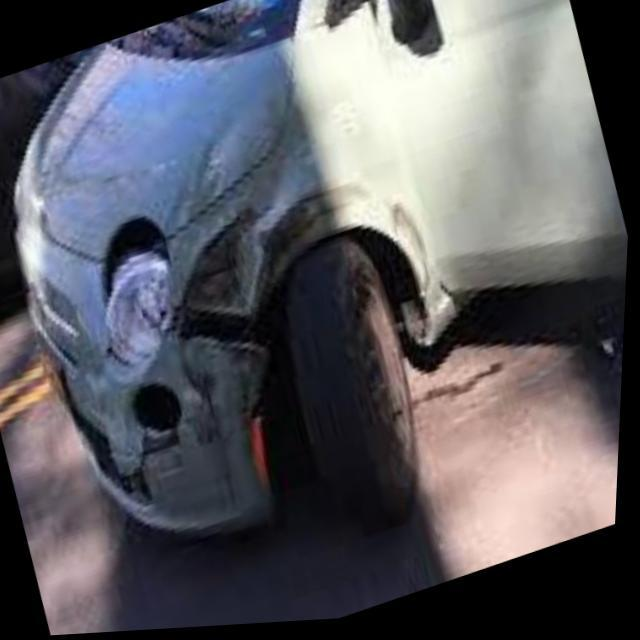dislocated part: (55, 253, 313, 525)
lamp broken: (103, 215, 182, 361)
